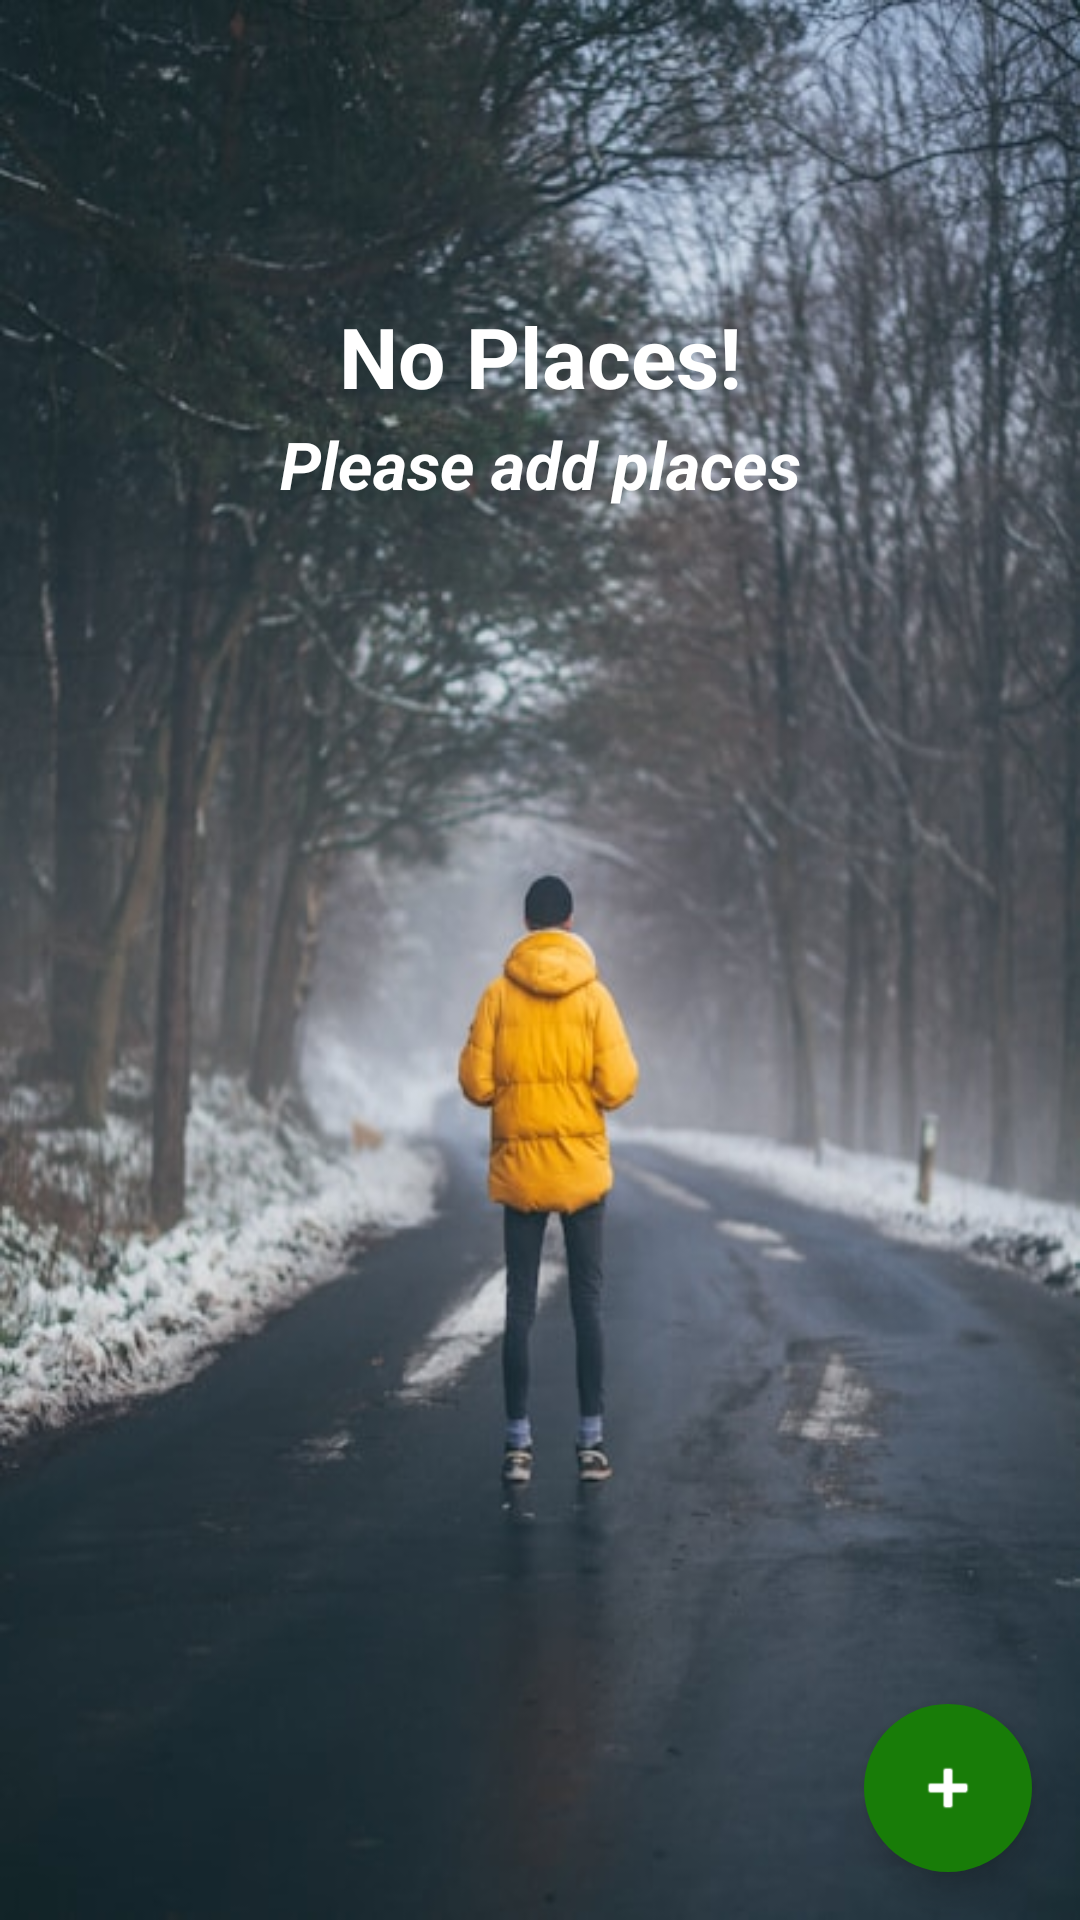

Icons on this 1080×1920 Android screen, each with its box as (x1, y1, x2, y2):
Add Place: (864, 1704, 1032, 1872)
